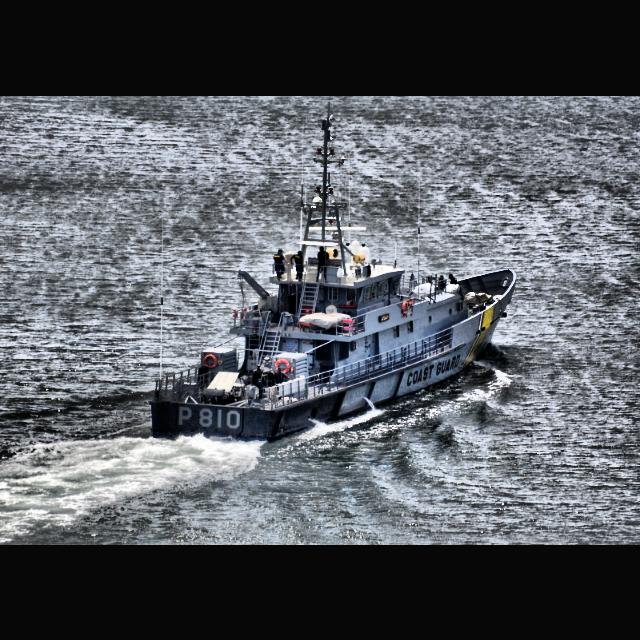patrol_vessel: (148, 155, 520, 445)
